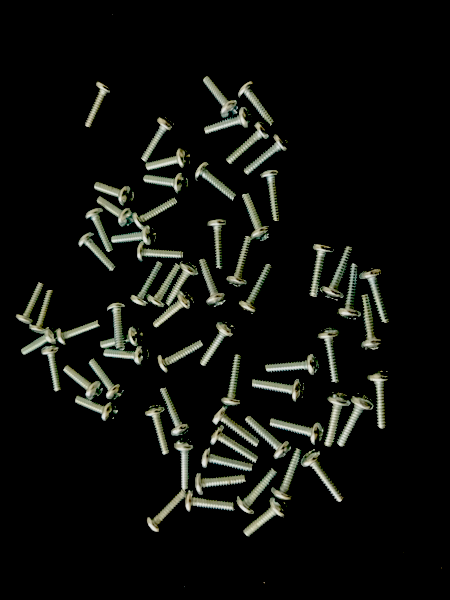shortscrew: (301, 450, 346, 505), (337, 392, 376, 449), (245, 415, 292, 461), (243, 133, 292, 177), (237, 466, 279, 516), (212, 404, 259, 448), (226, 121, 273, 165), (320, 245, 356, 302), (238, 263, 276, 316), (146, 487, 188, 534), (243, 497, 290, 539), (195, 161, 240, 204), (238, 80, 277, 128), (140, 115, 178, 164), (210, 426, 259, 464), (199, 321, 237, 368), (360, 269, 392, 324), (202, 75, 241, 119), (158, 387, 192, 437), (272, 448, 304, 501), (358, 294, 387, 352), (77, 232, 118, 273), (315, 328, 345, 384), (367, 370, 395, 430), (133, 196, 182, 230), (241, 193, 274, 243), (88, 359, 126, 402), (152, 291, 195, 329), (166, 261, 201, 307), (84, 80, 116, 130), (324, 392, 352, 448), (198, 259, 230, 308), (158, 340, 204, 374), (146, 264, 180, 310), (130, 262, 164, 308), (84, 208, 117, 255), (270, 417, 325, 445), (309, 243, 336, 298), (253, 377, 307, 404), (145, 405, 172, 457), (201, 447, 253, 474), (265, 352, 321, 377), (337, 264, 362, 320), (226, 236, 252, 289), (205, 107, 254, 135), (64, 365, 103, 400), (259, 169, 284, 223), (15, 282, 46, 325), (220, 354, 245, 407), (96, 196, 137, 228), (75, 394, 120, 423), (185, 490, 236, 515), (145, 145, 194, 171), (58, 318, 103, 346), (174, 438, 198, 490), (93, 179, 136, 208), (20, 326, 60, 357), (195, 472, 246, 496), (206, 218, 230, 269), (143, 173, 190, 197), (100, 325, 147, 349), (29, 290, 54, 335), (40, 347, 63, 394), (103, 345, 151, 367), (111, 225, 158, 247), (107, 302, 128, 350)
